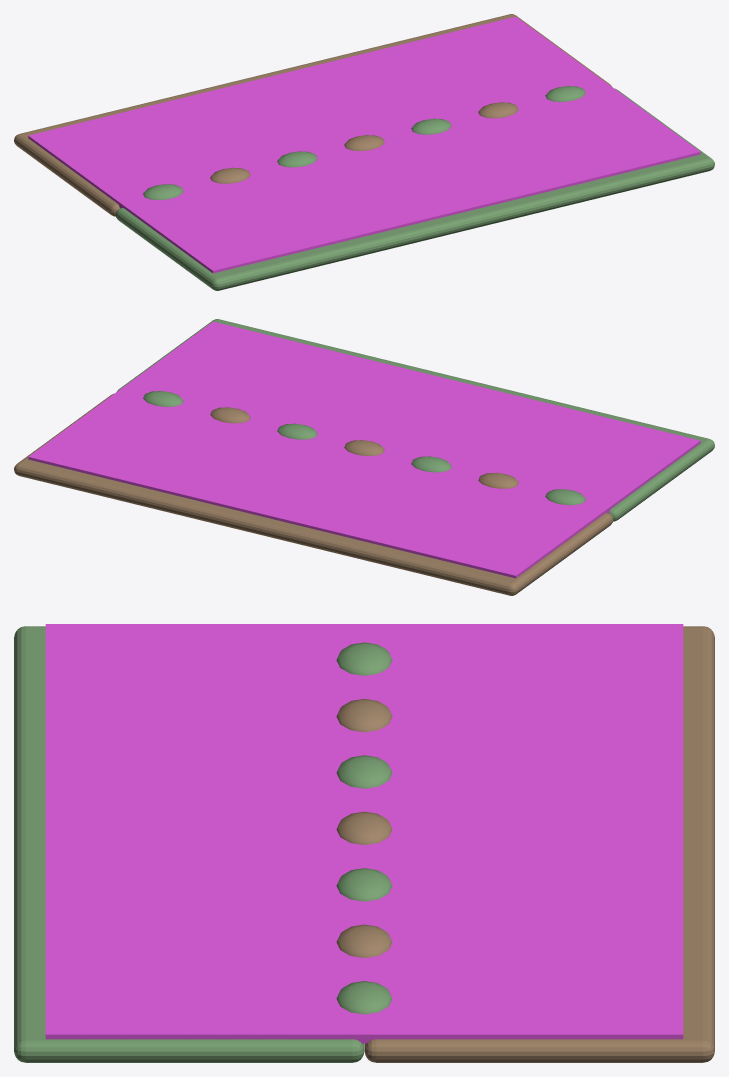
3 renders of one model, top to bottom at view 1: azimuth 30°, elevation 25°; view 2: azimuth 150°, elevation 25°; view 3: azimuth 270°, elevation 25°, orthographic. The views are drawn at different scales.
Visible parts, largest first — view 1: NAV_MASK_TRANSITION_GRASS_DIRT, LOD0_TRANSITION_GRASS_DIRT_A, LOD0_TRANSITION_GRASS_DIRT_B, LOD0_TRANSITION_GRASS_DIRT_Blend_03, LOD0_TRANSITION_GRASS_DIRT_Blend_06, LOD0_TRANSITION_GRASS_DIRT_Blend_05, LOD0_TRANSITION_GRASS_DIRT_Blend_02, LOD0_TRANSITION_GRASS_DIRT_Blend_01, LOD0_TRANSITION_GRASS_DIRT_Blend_07, LOD0_TRANSITION_GRASS_DIRT_Blend_04; view 2: NAV_MASK_TRANSITION_GRASS_DIRT, LOD0_TRANSITION_GRASS_DIRT_B, LOD0_TRANSITION_GRASS_DIRT_A, LOD0_TRANSITION_GRASS_DIRT_Blend_03, LOD0_TRANSITION_GRASS_DIRT_Blend_06, LOD0_TRANSITION_GRASS_DIRT_Blend_05, LOD0_TRANSITION_GRASS_DIRT_Blend_02, LOD0_TRANSITION_GRASS_DIRT_Blend_01, LOD0_TRANSITION_GRASS_DIRT_Blend_07, LOD0_TRANSITION_GRASS_DIRT_Blend_04; view 3: NAV_MASK_TRANSITION_GRASS_DIRT, LOD0_TRANSITION_GRASS_DIRT_A, LOD0_TRANSITION_GRASS_DIRT_B, LOD0_TRANSITION_GRASS_DIRT_Blend_05, LOD0_TRANSITION_GRASS_DIRT_Blend_06, LOD0_TRANSITION_GRASS_DIRT_Blend_01, LOD0_TRANSITION_GRASS_DIRT_Blend_02, LOD0_TRANSITION_GRASS_DIRT_Blend_03, LOD0_TRANSITION_GRASS_DIRT_Blend_07, LOD0_TRANSITION_GRASS_DIRT_Blend_04.
Boxes of the visible parts, <box> form: NAV_MASK_TRANSITION_GRASS_DIRT: <box>28,16,700,273</box>; LOD0_TRANSITION_GRASS_DIRT_A: <box>115,88,714,290</box>; LOD0_TRANSITION_GRASS_DIRT_B: <box>14,14,611,216</box>; LOD0_TRANSITION_GRASS_DIRT_Blend_03: <box>277,151,317,167</box>; LOD0_TRANSITION_GRASS_DIRT_Blend_06: <box>478,102,518,118</box>; LOD0_TRANSITION_GRASS_DIRT_Blend_05: <box>411,118,451,134</box>; LOD0_TRANSITION_GRASS_DIRT_Blend_02: <box>210,167,250,183</box>; LOD0_TRANSITION_GRASS_DIRT_Blend_01: <box>143,184,183,200</box>; LOD0_TRANSITION_GRASS_DIRT_Blend_07: <box>545,86,585,101</box>; LOD0_TRANSITION_GRASS_DIRT_Blend_04: <box>344,135,384,150</box>; NAV_MASK_TRANSITION_GRASS_DIRT: <box>28,321,700,578</box>; LOD0_TRANSITION_GRASS_DIRT_B: <box>14,393,613,595</box>; LOD0_TRANSITION_GRASS_DIRT_A: <box>117,319,714,521</box>; LOD0_TRANSITION_GRASS_DIRT_Blend_03: <box>411,456,451,472</box>; LOD0_TRANSITION_GRASS_DIRT_Blend_06: <box>210,407,250,423</box>; LOD0_TRANSITION_GRASS_DIRT_Blend_05: <box>277,423,317,439</box>; LOD0_TRANSITION_GRASS_DIRT_Blend_02: <box>478,472,518,488</box>; LOD0_TRANSITION_GRASS_DIRT_Blend_01: <box>545,489,585,505</box>; LOD0_TRANSITION_GRASS_DIRT_Blend_07: <box>143,391,183,406</box>; LOD0_TRANSITION_GRASS_DIRT_Blend_04: <box>344,440,384,455</box>; NAV_MASK_TRANSITION_GRASS_DIRT: <box>45,624,683,1043</box>; LOD0_TRANSITION_GRASS_DIRT_A: <box>14,626,364,1062</box>; LOD0_TRANSITION_GRASS_DIRT_B: <box>364,626,714,1062</box>; LOD0_TRANSITION_GRASS_DIRT_Blend_05: <box>336,868,392,901</box>; LOD0_TRANSITION_GRASS_DIRT_Blend_06: <box>336,924,392,957</box>; LOD0_TRANSITION_GRASS_DIRT_Blend_01: <box>336,642,392,675</box>; LOD0_TRANSITION_GRASS_DIRT_Blend_02: <box>336,699,392,732</box>; LOD0_TRANSITION_GRASS_DIRT_Blend_03: <box>336,755,392,788</box>; LOD0_TRANSITION_GRASS_DIRT_Blend_07: <box>336,981,392,1014</box>; LOD0_TRANSITION_GRASS_DIRT_Blend_04: <box>336,811,392,844</box>.
Size of what is drawn, in the model's own units: 6 by 0.23 by 4.2.
